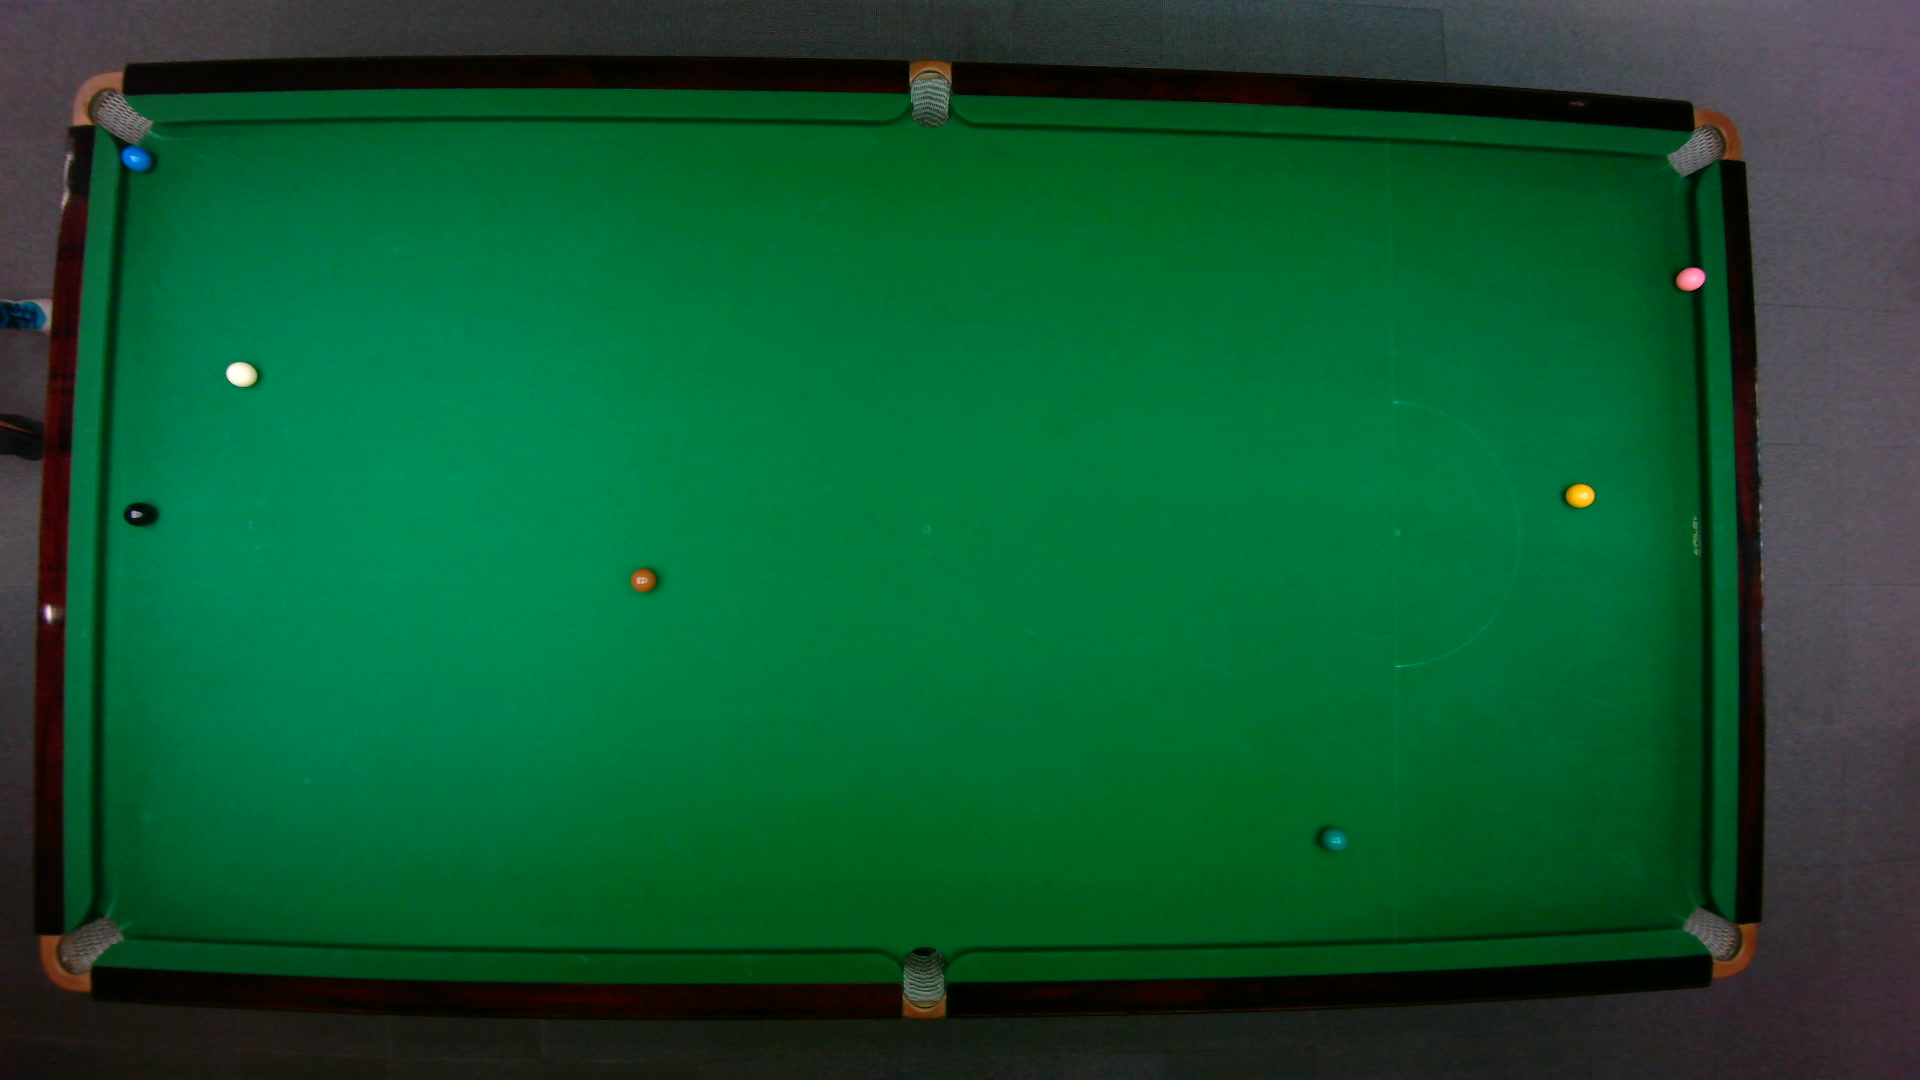bag: (38, 914, 125, 992), (69, 69, 153, 145), (1679, 905, 1756, 978), (1663, 107, 1742, 177), (901, 944, 944, 1021), (909, 57, 949, 128)
black: (121, 500, 154, 526)
blue: (119, 144, 153, 171)
brown: (629, 566, 657, 592)
green: (1317, 825, 1348, 852)
pink: (1673, 264, 1706, 291)
white: (223, 357, 258, 386)
yellow: (1563, 481, 1596, 508)
zone: (1391, 398, 1520, 669)
